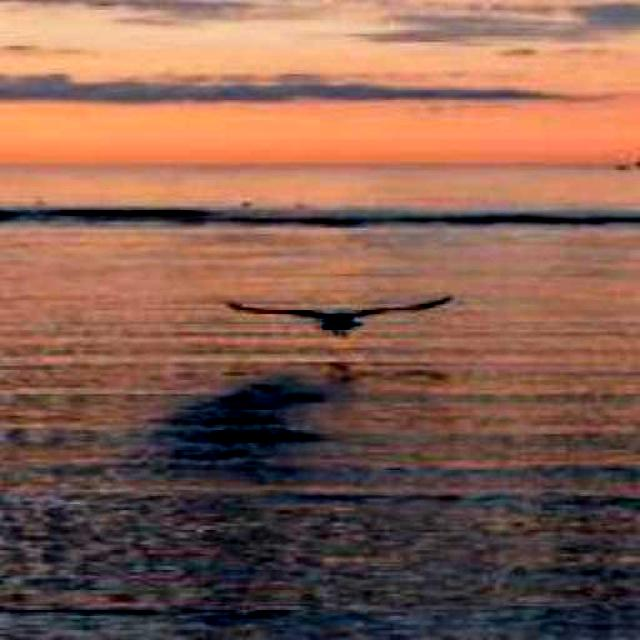airplane: (226, 295, 458, 339)
